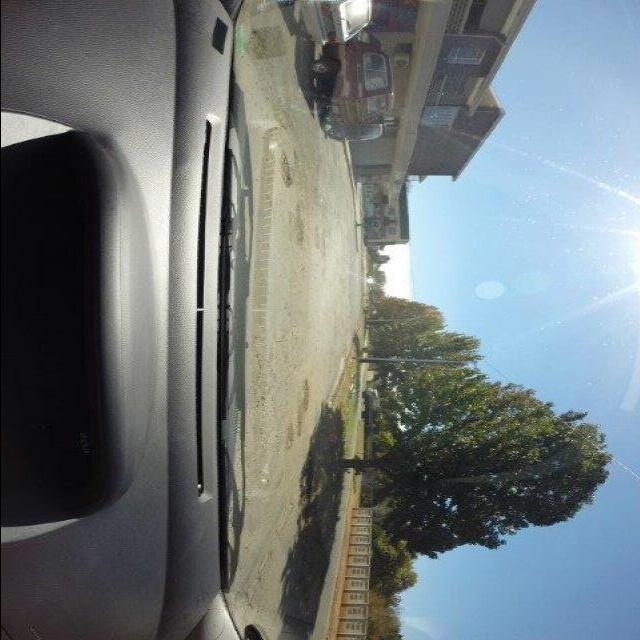lubang: (284, 379, 314, 448), (314, 222, 332, 278), (278, 154, 298, 191), (292, 203, 306, 245)
